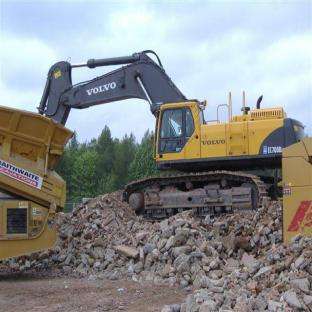ExcavationMachinery: (22, 61, 300, 223)
